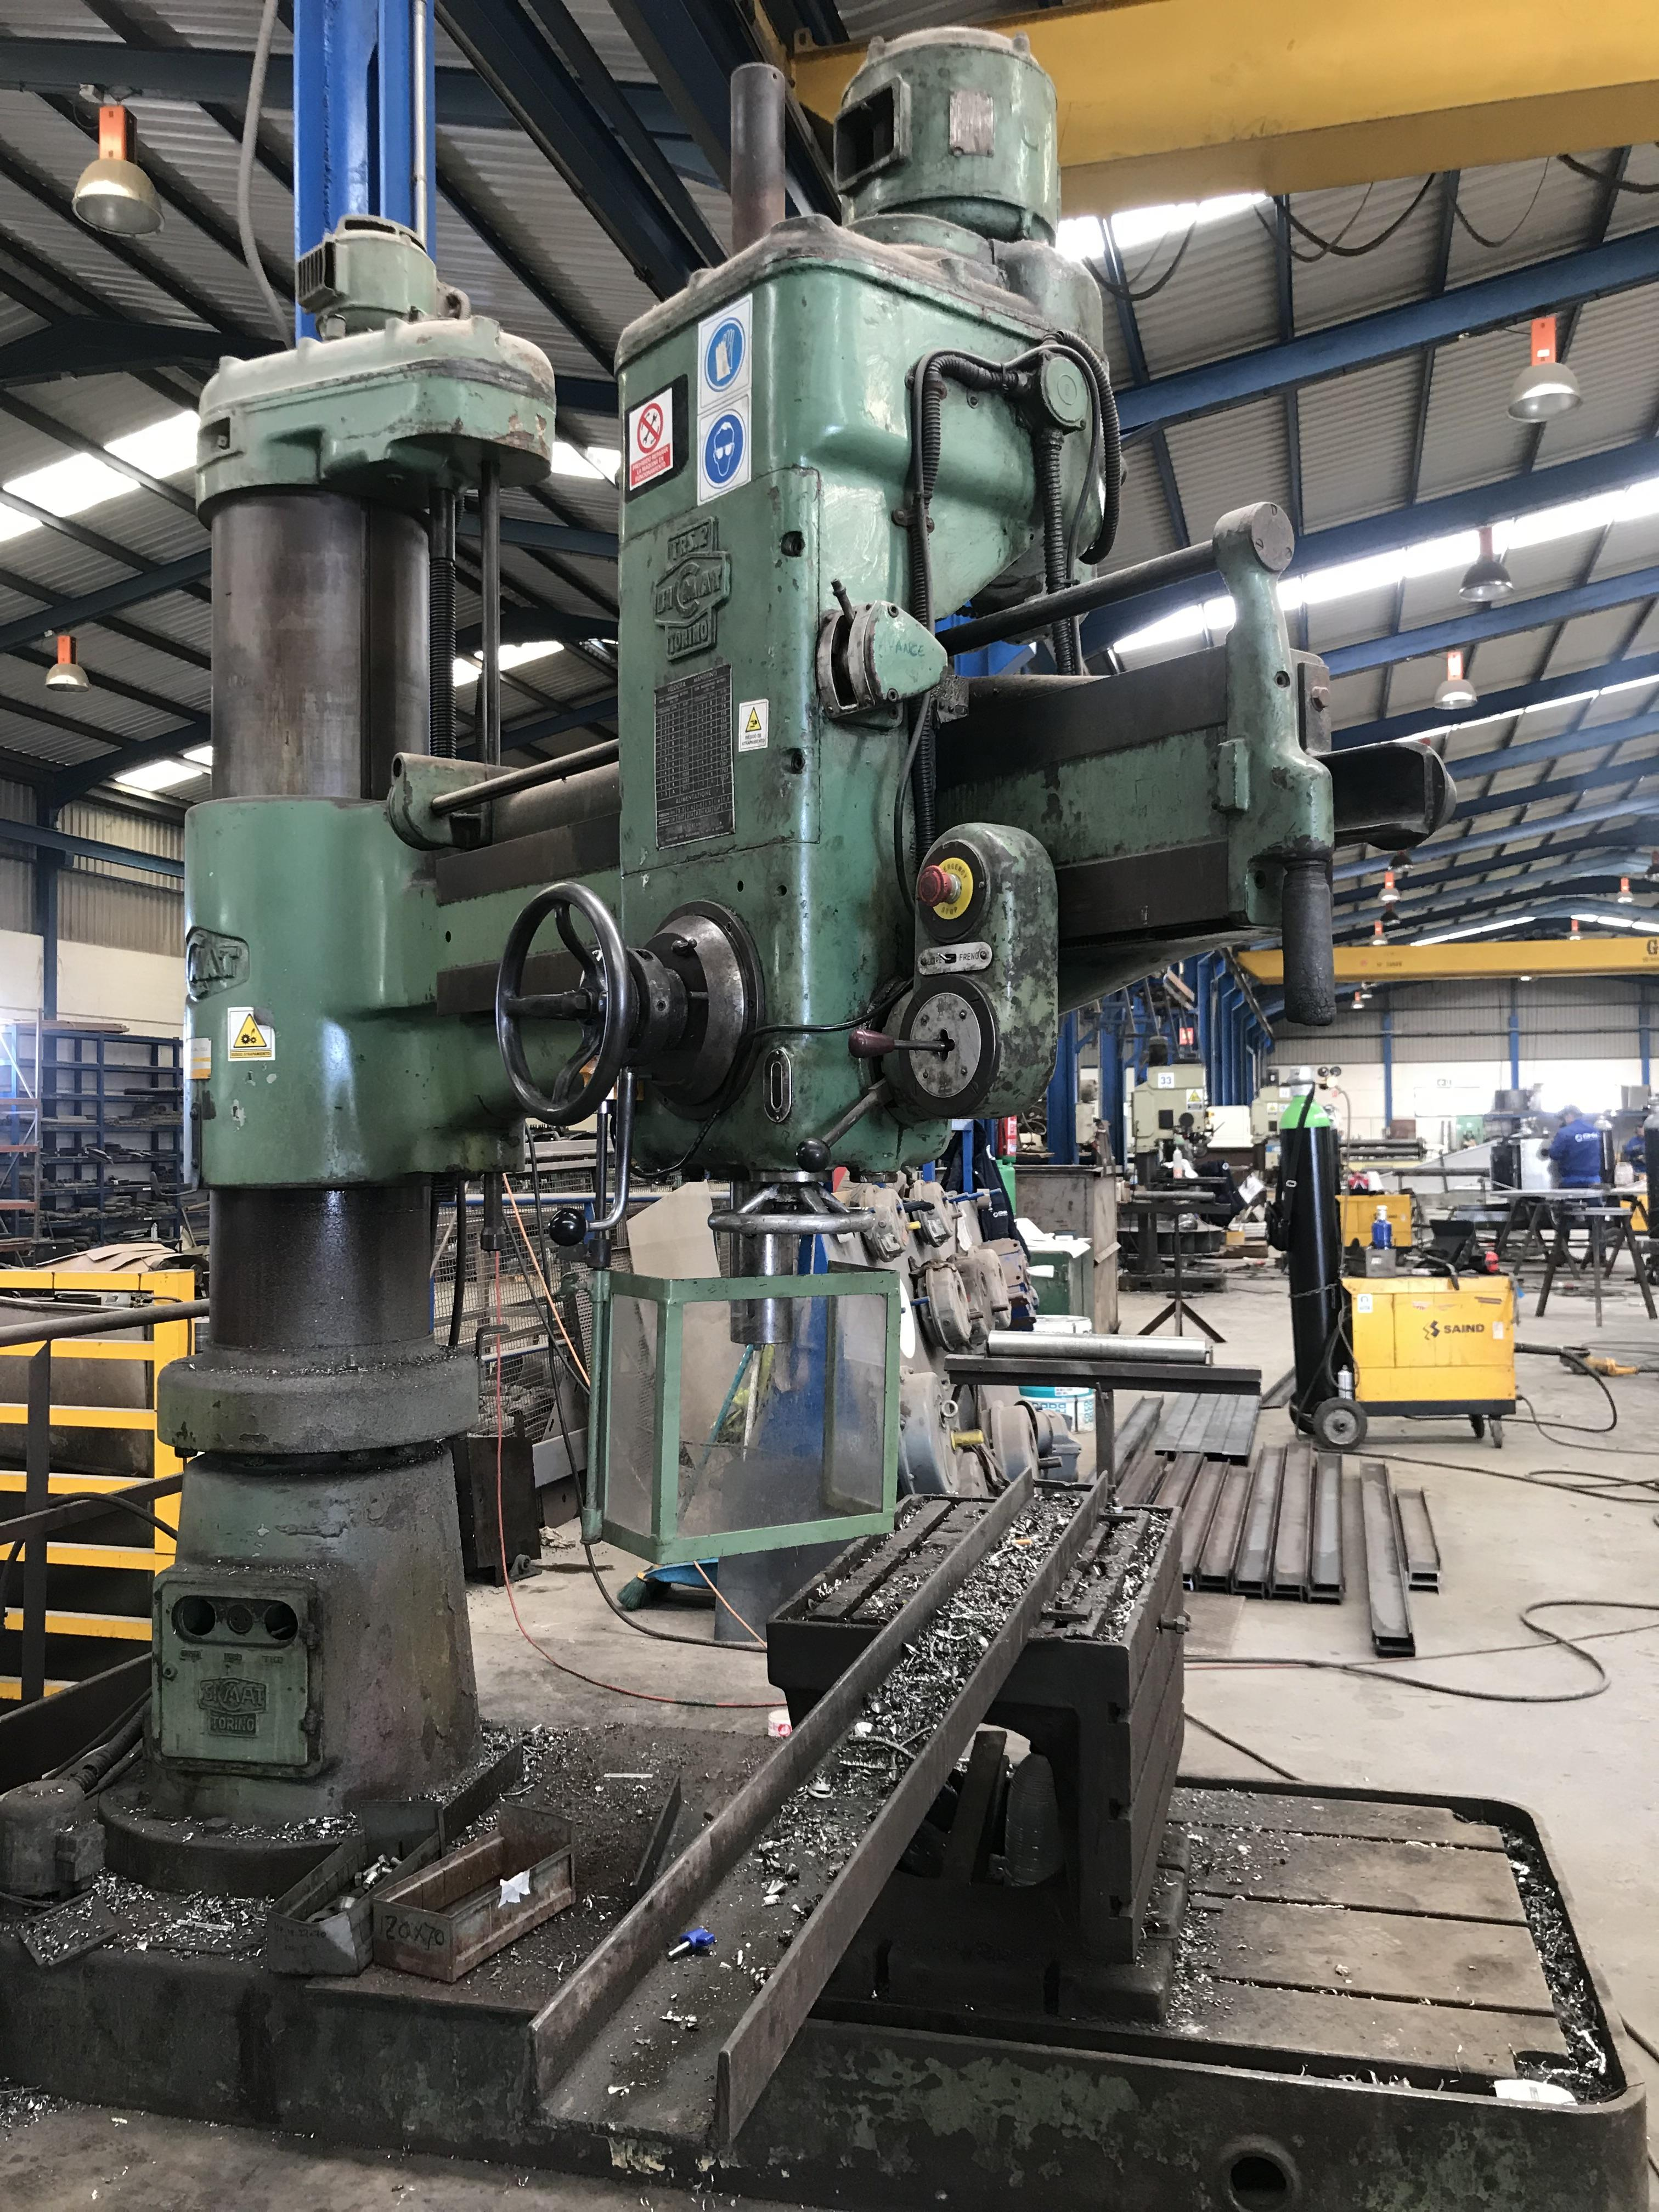falta_resguardo: (721, 1162, 800, 1355)
mandos_inseguros: (847, 942, 1056, 1118)
